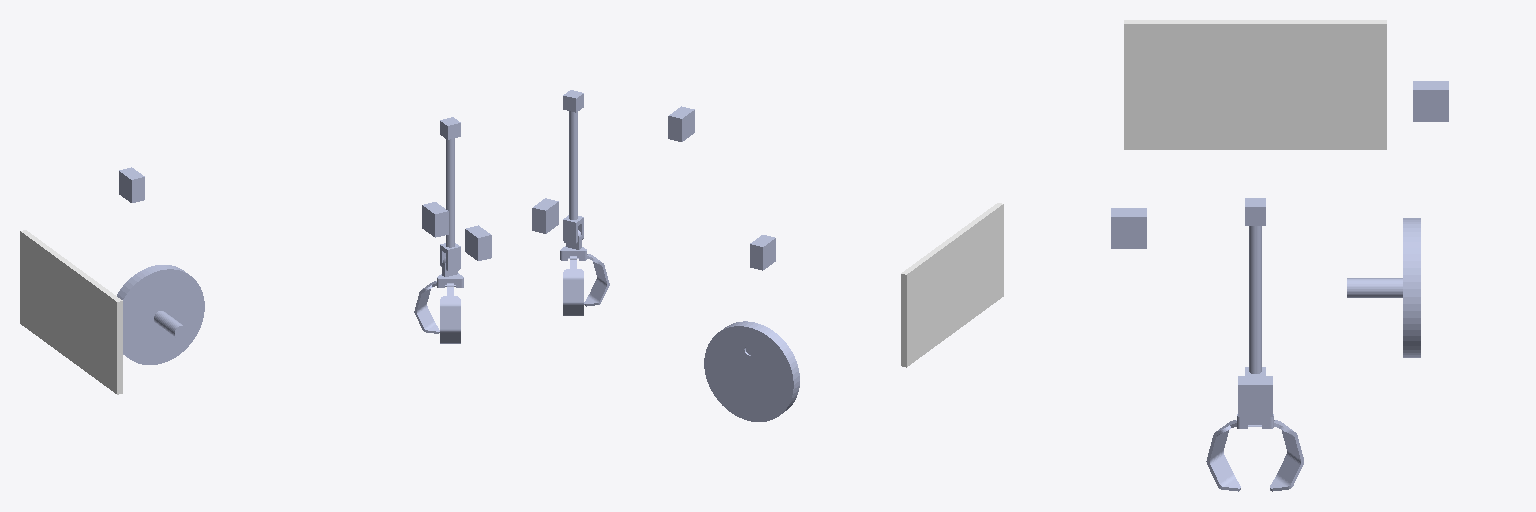
The robot description file, URDF, robot "bot10":
<?xml version="1.0" encoding="utf-8"?>
<!-- This URDF was automatically created by SolidWorks to URDF Exporter! Originally created by [author] ([email redacted]) 
     Commit Version: 1.4.4-24-g24328f6  Build Version: 1.5.7084.36479
     For more information, please see http://wiki.ros.org/sw_urdf_exporter -->
<robot
  name="bot10">
  <link
    name="base_link">
    <inertial>
      <origin
        xyz="0.02776 2.3052E-16 0.048645"
        rpy="0 0 0" />
      <mass
        value="10.2" />
      <inertia
        ixx="0.22281"
        ixy="2.4052E-16"
        ixz="0.0003497"
        iyy="0.20416"
        iyz="1.0588E-16"
        izz="0.35837" />
    </inertial>
    <visual>
      <origin
        xyz="0 0 0"
        rpy="0 0 0" />
      <geometry>
        <mesh
          filename="package://bot10/meshes/base_link.STL" />
      </geometry>
      <material
        name="">
        <color
          rgba="0.79216 0.81961 0.93333 1" />
      </material>
    </visual>
    <collision>
      <origin
        xyz="0 0 0"
        rpy="0 0 0" />
      <geometry>
        <mesh
          filename="package://bot10/meshes/base_link.STL" />
      </geometry>
    </collision>
  </link>
  <link
    name="FRW">
    <inertial>
      <origin
        xyz="0 -7.5392E-05 -0.089381"
        rpy="0 0 0" />
      <mass
        value="0.8334" />
      <inertia
        ixx="0.0021574"
        ixy="1.6263E-19"
        ixz="-8.4703E-21"
        iyy="0.0021606"
        iyz="-8.5571E-07"
        izz="0.0039286" />
    </inertial>
    <visual>
      <origin
        xyz="0 0 0"
        rpy="0 0 0" />
      <geometry>
        <mesh
          filename="package://bot10/meshes/FRW.STL" />
      </geometry>
      <material
        name="">
        <color
          rgba="0.79216 0.81961 0.93333 1" />
      </material>
    </visual>
    <collision>
      <origin
        xyz="0 0 0"
        rpy="0 0 0" />
      <geometry>
        <mesh
          filename="package://bot10/meshes/FRW.STL" />
      </geometry>
    </collision>
  </link>
  <joint
    name="FRWJ"
    type="continuous">
    <origin
      xyz="0.125 -0.13 -0.025"
      rpy="1.5708 0.39309 -3.1416" />
    <parent
      link="base_link" />
    <child
      link="FRW" />
    <axis
      xyz="0 0 1" />
    <safety_controller
      k_velocity="0" />
  </joint>
  <link
    name="FLW">
    <inertial>
      <origin
        xyz="0 -7.5392E-05 -0.089381"
        rpy="0 0 0" />
      <mass
        value="0.8334" />
      <inertia
        ixx="0.0021574"
        ixy="-8.7964E-21"
        ixz="2.7837E-19"
        iyy="0.0021606"
        iyz="-8.5571E-07"
        izz="0.0039286" />
    </inertial>
    <visual>
      <origin
        xyz="0 0 0"
        rpy="0 0 0" />
      <geometry>
        <mesh
          filename="package://bot10/meshes/FLW.STL" />
      </geometry>
      <material
        name="">
        <color
          rgba="0.79216 0.81961 0.93333 1" />
      </material>
    </visual>
    <collision>
      <origin
        xyz="0 0 0"
        rpy="0 0 0" />
      <geometry>
        <mesh
          filename="package://bot10/meshes/FLW.STL" />
      </geometry>
    </collision>
  </link>
  <joint
    name="FLWJ"
    type="continuous">
    <origin
      xyz="0.125000000000004 0.13 -0.025"
      rpy="1.5707963267949 0 0" />
    <parent
      link="base_link" />
    <child
      link="FLW" />
    <axis
      xyz="0 0 1" />
    <safety_controller
      k_velocity="0" />
  </joint>
  <link
    name="RRW">
    <inertial>
      <origin
        xyz="-2.7756E-17 -7.5392E-05 -0.089381"
        rpy="0 0 0" />
      <mass
        value="0.8334" />
      <inertia
        ixx="0.0021574"
        ixy="6.5052E-19"
        ixz="4.6852E-20"
        iyy="0.0021606"
        iyz="-8.5571E-07"
        izz="0.0039286" />
    </inertial>
    <visual>
      <origin
        xyz="0 0 0"
        rpy="0 0 0" />
      <geometry>
        <mesh
          filename="package://bot10/meshes/RRW.STL" />
      </geometry>
      <material
        name="">
        <color
          rgba="0.79216 0.81961 0.93333 1" />
      </material>
    </visual>
    <collision>
      <origin
        xyz="0 0 0"
        rpy="0 0 0" />
      <geometry>
        <mesh
          filename="package://bot10/meshes/RRW.STL" />
      </geometry>
    </collision>
  </link>
  <joint
    name="RRWJ"
    type="continuous">
    <origin
      xyz="-0.125 -0.13 -0.025"
      rpy="1.5707963267949 0.39309481042652 -3.14159265358979" />
    <parent
      link="base_link" />
    <child
      link="RRW" />
    <axis
      xyz="0 0 1" />
    <safety_controller
      k_velocity="0" />
  </joint>
  <link
    name="RLW">
    <inertial>
      <origin
        xyz="-1.3878E-17 -7.5392E-05 -0.089381"
        rpy="0 0 0" />
      <mass
        value="0.8334" />
      <inertia
        ixx="0.0021574"
        ixy="-8.7964E-21"
        ixz="2.7837E-19"
        iyy="0.0021606"
        iyz="-8.5571E-07"
        izz="0.0039286" />
    </inertial>
    <visual>
      <origin
        xyz="0 0 0"
        rpy="0 0 0" />
      <geometry>
        <mesh
          filename="package://bot10/meshes/RLW.STL" />
      </geometry>
      <material
        name="">
        <color
          rgba="0.79216 0.81961 0.93333 1" />
      </material>
    </visual>
    <collision>
      <origin
        xyz="0 0 0"
        rpy="0 0 0" />
      <geometry>
        <mesh
          filename="package://bot10/meshes/RLW.STL" />
      </geometry>
    </collision>
  </link>
  <joint
    name="RLWJ"
    type="continuous">
    <origin
      xyz="-0.125 0.13 -0.025"
      rpy="1.5708 0 0" />
    <parent
      link="base_link" />
    <child
      link="RLW" />
    <axis
      xyz="0 0 1" />
    <safety_controller
      k_velocity="0" />
  </joint>
  <link
    name="LC">
    <inertial>
      <origin
        xyz="0.015 0 0"
        rpy="0 0 0" />
      <mass
        value="0.075" />
      <inertia
        ixx="3.125E-05"
        ixy="-1.6263E-22"
        ixz="4.2352E-22"
        iyy="2.125E-05"
        iyz="-1.3056E-21"
        izz="2.125E-05" />
    </inertial>
    <visual>
      <origin
        xyz="0 0 0"
        rpy="0 0 0" />
      <geometry>
        <mesh
          filename="package://bot10/meshes/LC.STL" />
      </geometry>
      <material
        name="">
        <color
          rgba="0.79216 0.81961 0.93333 1" />
      </material>
    </visual>
    <collision>
      <origin
        xyz="0 0 0"
        rpy="0 0 0" />
      <geometry>
        <mesh
          filename="package://bot10/meshes/LC.STL" />
      </geometry>
    </collision>
  </link>
  <joint
    name="LCJ"
    type="fixed">
    <origin
      xyz="0.05 0.2 0.125"
      rpy="1.5707963267949 0 1.5707963267949" />
    <parent
      link="base_link" />
    <child
      link="LC" />
    <axis
      xyz="0 0 0" />
    <safety_controller
      k_velocity="0" />
  </joint>
  <link
    name="FC">
    <inertial>
      <origin
        xyz="0.015 0 -1.0663E-16"
        rpy="0 0 0" />
      <mass
        value="0.075" />
      <inertia
        ixx="3.125E-05"
        ixy="-9.1835E-38"
        ixz="4.2352E-22"
        iyy="2.125E-05"
        iyz="-3.3633E-21"
        izz="2.125E-05" />
    </inertial>
    <visual>
      <origin
        xyz="0 0 0"
        rpy="0 0 0" />
      <geometry>
        <mesh
          filename="package://bot10/meshes/FC.STL" />
      </geometry>
      <material
        name="">
        <color
          rgba="0.79216 0.81961 0.93333 1" />
      </material>
    </visual>
    <collision>
      <origin
        xyz="0 0 0"
        rpy="0 0 0" />
      <geometry>
        <mesh
          filename="package://bot10/meshes/FC.STL" />
      </geometry>
    </collision>
  </link>
  <joint
    name="FCJ"
    type="fixed">
    <origin
      xyz="0.225 0 0.04"
      rpy="1.5707963267949 0 0" />
    <parent
      link="base_link" />
    <child
      link="FC" />
    <axis
      xyz="0 0 0" />
    <safety_controller
      k_velocity="0" />
  </joint>
  <link
    name="RC">
    <inertial>
      <origin
        xyz="0.015 0 -6.9389E-18"
        rpy="0 0 0" />
      <mass
        value="0.075" />
      <inertia
        ixx="3.125E-05"
        ixy="-1.6263E-22"
        ixz="4.2352E-22"
        iyy="2.125E-05"
        iyz="-1.3056E-21"
        izz="2.125E-05" />
    </inertial>
    <visual>
      <origin
        xyz="0 0 0"
        rpy="0 0 0" />
      <geometry>
        <mesh
          filename="package://bot10/meshes/RC.STL" />
      </geometry>
      <material
        name="">
        <color
          rgba="0.79216 0.81961 0.93333 1" />
      </material>
    </visual>
    <collision>
      <origin
        xyz="0 0 0"
        rpy="0 0 0" />
      <geometry>
        <mesh
          filename="package://bot10/meshes/RC.STL" />
      </geometry>
    </collision>
  </link>
  <joint
    name="RCJ"
    type="fixed">
    <origin
      xyz="0.0500000000000001 -0.23 0.125"
      rpy="1.5707963267949 0 1.5707963267949" />
    <parent
      link="base_link" />
    <child
      link="RC" />
    <axis
      xyz="0 0 0" />
    <safety_controller
      k_velocity="0" />
  </joint>
  <link
    name="EP1">
    <inertial>
      <origin
        xyz="0.12296 0 2.403E-16"
        rpy="0 0 0" />
      <mass
        value="0.17181" />
      <inertia
        ixx="1.2311E-05"
        ixy="-1.129E-20"
        ixz="-1.3847E-20"
        iyy="0.0057549"
        iyz="-4.5234E-22"
        izz="0.0057544" />
    </inertial>
    <visual>
      <origin
        xyz="0 0 0"
        rpy="0 0 0" />
      <geometry>
        <mesh
          filename="package://bot10/meshes/EP1.STL" />
      </geometry>
      <material
        name="">
        <color
          rgba="0.79216 0.81961 0.93333 1" />
      </material>
    </visual>
    <collision>
      <origin
        xyz="0 0 0"
        rpy="0 0 0" />
      <geometry>
        <mesh
          filename="package://bot10/meshes/EP1.STL" />
      </geometry>
    </collision>
  </link>
  <joint
    name="EP1J"
    type="prismatic">
    <origin
      xyz="0 0 0.305"
      rpy="1.5707963267949 0 0" />
    <parent
      link="base_link" />
    <child
      link="EP1" />
    <axis
      xyz="1 0 0" />
    <limit
      lower="-0.34"
      upper="0"
      effort="10"
      velocity="0.1" />
    <safety_controller
      k_velocity="0" />
  </joint>
  <link
    name="EP2">
    <inertial>
      <origin
        xyz="1.6653E-16 0.10207 -1.3532E-17"
        rpy="0 0 0" />
      <mass
        value="0.11609" />
      <inertia
        ixx="0.001338"
        ixy="-2.6306E-22"
        ixz="-3.3456E-22"
        iyy="1.1509E-05"
        iyz="-9.9964E-21"
        izz="0.001337" />
    </inertial>
    <visual>
      <origin
        xyz="0 0 0"
        rpy="0 0 0" />
      <geometry>
        <mesh
          filename="package://bot10/meshes/EP2.STL" />
      </geometry>
      <material
        name="">
        <color
          rgba="0.79216 0.81961 0.93333 1" />
      </material>
    </visual>
    <collision>
      <origin
        xyz="0 0 0"
        rpy="0 0 0" />
      <geometry>
        <mesh
          filename="package://bot10/meshes/EP2.STL" />
      </geometry>
    </collision>
  </link>
  <joint
    name="EP2J"
    type="prismatic">
    <origin
      xyz="0.4025 0 0"
      rpy="0 0 3.1416" />
    <parent
      link="EP1" />
    <child
      link="EP2" />
    <axis
      xyz="0 1 0" />
    <limit
      lower="-0.195"
      upper="0"
      effort="10"
      velocity="0.1" />
    <safety_controller
      k_velocity="0" />
  </joint>
  <link
    name="CH">
    <inertial>
      <origin
        xyz="-5.5511E-17 -0.026916 -2.3338E-16"
        rpy="0 0 0" />
      <mass
        value="0.033597" />
      <inertia
        ixx="5.6903E-06"
        ixy="-6.3393E-21"
        ixz="-3.9801E-21"
        iyy="8.1088E-06"
        iyz="-4.5596E-21"
        izz="6.3442E-06" />
    </inertial>
    <visual>
      <origin
        xyz="0 0 0"
        rpy="0 0 0" />
      <geometry>
        <mesh
          filename="package://bot10/meshes/CH.STL" />
      </geometry>
      <material
        name="">
        <color
          rgba="0.79216 0.81961 0.93333 1" />
      </material>
    </visual>
    <collision>
      <origin
        xyz="0 0 0"
        rpy="0 0 0" />
      <geometry>
        <mesh
          filename="package://bot10/meshes/CH.STL" />
      </geometry>
    </collision>
  </link>
  <joint
    name="CHJ"
    type="revolute">
    <origin
      xyz="0 0.252500000000003 0"
      rpy="3.14159265358979 0 0" />
    <parent
      link="EP2" />
    <child
      link="CH" />
    <axis
      xyz="0 0 1" />
    <limit
      lower="-0.7854"
      upper="0"
      effort="10"
      velocity="0.125" />
    <safety_controller
      k_velocity="0" />
  </joint>
  <link
    name="F1">
    <inertial>
      <origin
        xyz="-0.15654 -0.0064437 0.34858"
        rpy="0 0 0" />
      <mass
        value="0.026963" />
      <inertia
        ixx="3.4145E-05"
        ixy="-3.7053E-06"
        ixz="1.3008E-11"
        iyy="7.6085E-06"
        iyz="-4.7018E-11"
        izz="3.5529E-05" />
    </inertial>
    <visual>
      <origin
        xyz="0 0 0"
        rpy="0 0 0" />
      <geometry>
        <mesh
          filename="package://bot10/meshes/F1.STL" />
      </geometry>
      <material
        name="">
        <color
          rgba="0.79216 0.81961 0.93333 1" />
      </material>
    </visual>
    <collision>
      <origin
        xyz="0 0 0"
        rpy="0 0 0" />
      <geometry>
        <mesh
          filename="package://bot10/meshes/F1.STL" />
      </geometry>
    </collision>
  </link>
  <joint
    name="F1J"
    type="revolute">
    <origin
      xyz="0.4025 -0.0525 0"
      rpy="-0.42143 -0.99089 0.49195" />
    <parent
      link="CH" />
    <child
      link="F1" />
    <axis
      xyz="0 0 1" />
    <limit
      lower="0"
      upper="1.0472"
      effort="10"
      velocity="0.125" />
    <safety_controller
      k_velocity="0" />
  </joint>
  <link
    name="F2">
    <inertial>
      <origin
        xyz="0.021298 -0.064967 5.5279E-08"
        rpy="0 0 0" />
      <mass
        value="0.026963" />
      <inertia
        ixx="3.4145E-05"
        ixy="-3.7053E-06"
        ixz="1.4921E-11"
        iyy="7.6085E-06"
        iyz="-5.0153E-11"
        izz="3.5529E-05" />
    </inertial>
    <visual>
      <origin
        xyz="0 0 0"
        rpy="0 0 0" />
      <geometry>
        <mesh
          filename="package://bot10/meshes/F2.STL" />
      </geometry>
      <material
        name="">
        <color
          rgba="0.79216 0.81961 0.93333 1" />
      </material>
    </visual>
    <collision>
      <origin
        xyz="0 0 0"
        rpy="0 0 0" />
      <geometry>
        <mesh
          filename="package://bot10/meshes/F2.STL" />
      </geometry>
    </collision>
  </link>
  <joint
    name="F2J"
    type="revolute">
    <origin
      xyz="-0.014321 -0.042 0"
      rpy="3.1416 0 2.8798" />
    <parent
      link="CH" />
    <child
      link="F2" />
    <axis
      xyz="0 0 1" />
    <limit
      lower="0"
      upper="1.0472"
      effort="10"
      velocity="0.125" />
    <safety_controller
      k_velocity="0" />
  </joint>
  <link
    name="F3">
    <inertial>
      <origin
        xyz="0.00022086 -0.059319 -0.037402"
        rpy="0 0 0" />
      <mass
        value="0.026963" />
      <inertia
        ixx="3.4145E-05"
        ixy="-3.7053E-06"
        ixz="1.4729E-11"
        iyy="7.6085E-06"
        iyz="-5.8707E-11"
        izz="3.5528E-05" />
    </inertial>
    <visual>
      <origin
        xyz="0 0 0"
        rpy="0 0 0" />
      <geometry>
        <mesh
          filename="package://bot10/meshes/F3.STL" />
      </geometry>
      <material
        name="">
        <color
          rgba="0.79216 0.81961 0.93333 1" />
      </material>
    </visual>
    <collision>
      <origin
        xyz="0 0 0"
        rpy="0 0 0" />
      <geometry>
        <mesh
          filename="package://bot10/meshes/F3.STL" />
      </geometry>
    </collision>
  </link>
  <joint
    name="F3J"
    type="revolute">
    <origin
      xyz="0.0504615242270688 -0.042 -0.0125980762113492"
      rpy="0.421429094018828 0.990894238270137 0.491952211341744" />
    <parent
      link="CH" />
    <child
      link="F3" />
    <axis
      xyz="0 0 1" />
    <limit
      lower="0"
      upper="1.0472"
      effort="10"
      velocity="0.125" />
    <safety_controller
      k_velocity="0" />
  </joint>
  <link
    name="Back">
    <inertial>
      <origin
        xyz="0 0 0"
        rpy="0 0 0" />
      <mass
        value="0" />
      <inertia
        ixx="0"
        ixy="0"
        ixz="0"
        iyy="0"
        iyz="0"
        izz="0" />
    </inertial>
    <visual>
      <origin
        xyz="0 0 0"
        rpy="0 0 0" />
      <geometry>
        <mesh
          filename="package://bot10/meshes/Back.STL" />
      </geometry>
      <material
        name="">
        <color
          rgba="1 1 1 1" />
      </material>
    </visual>
    <collision>
      <origin
        xyz="0 0 0"
        rpy="0 0 0" />
      <geometry>
        <mesh
          filename="package://bot10/meshes/Back.STL" />
      </geometry>
    </collision>
  </link>
  <joint
    name="BJ"
    type="prismatic">
    <origin
      xyz="-0.225 0 0.022817"
      rpy="1.5708 0 0" />
    <parent
      link="base_link" />
    <child
      link="Back" />
    <axis
      xyz="0 1 0" />
    <limit
      lower="-0.15"
      upper="0"
      effort="0"
      velocity="0" />
    <safety_controller
      k_velocity="0" />
  </joint>
</robot>

--- Render facts (derived) ---
Views: 3 orthographic renders of the robot side by side, from view 1: azimuth 30°, elevation 25°; view 2: azimuth 150°, elevation 25°; view 3: azimuth 270°, elevation 25°.
Robot: bot10 — 15 links, 14 joints (4 revolute, 4 continuous, 3 prismatic, 3 fixed); root link base_link; default pose: all joints at 0.
Visible links, largest first — view 1: Back, RLW, EP2, F3, RC, FC, LC, F1; view 2: Back, RLW, EP2, F1, FC, RC, LC, F3; view 3: Back, RLW, EP2, LC, RC, FC, F3, F1.
Boxes of the visible links, <box> form: Back: <box>20,230,122,394</box>; RLW: <box>117,265,204,364</box>; EP2: <box>440,117,460,272</box>; F3: <box>440,283,460,343</box>; RC: <box>422,202,448,237</box>; FC: <box>465,225,491,260</box>; LC: <box>119,167,144,202</box>; F1: <box>414,281,439,333</box>; Back: <box>901,203,1003,367</box>; RLW: <box>704,321,799,421</box>; EP2: <box>563,90,583,244</box>; F1: <box>563,256,583,315</box>; FC: <box>532,198,558,233</box>; RC: <box>668,106,694,141</box>; LC: <box>750,235,775,270</box>; F3: <box>584,254,609,306</box>; Back: <box>1124,20,1386,149</box>; RLW: <box>1347,218,1420,357</box>; EP2: <box>1245,198,1265,375</box>; LC: <box>1413,81,1448,121</box>; RC: <box>1111,208,1146,248</box>; FC: <box>1238,376,1272,416</box>; F3: <box>1206,420,1240,491</box>; F1: <box>1270,420,1303,491</box>.
Bounding box of the posed robot: 0.93 × 0.48 × 0.48 m (x, y, z).
Meshes: 15 distinct files referenced, 9 mesh visuals loaded (9 binary STL); not drawn: 6 (reference not matched to a file when rendering).